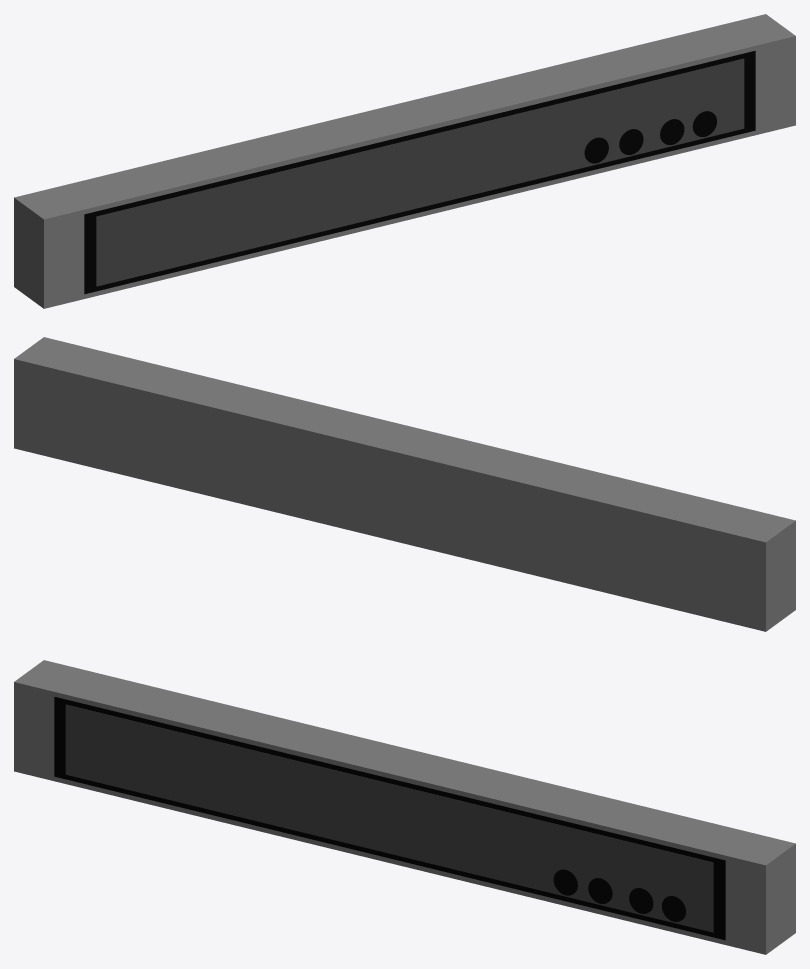
Rendered from Cooker Unit (Oven Door 3).fbx.
The picture shows the model from 3 angles, top to bottom: view 1: azimuth 30°, elevation 25°; view 2: azimuth 150°, elevation 25°; view 3: azimuth 330°, elevation 25°; orthographic projection.
Visible parts, largest first — view 1: Door 1.013, Door 1.011, Door 1.012; view 2: Door 1.011; view 3: Door 1.013, Door 1.011, Door 1.012.
Part boxes in pixels (<box>): Door 1.013: <box>96,58,744,286</box>; Door 1.011: <box>14,14,795,308</box>; Door 1.012: <box>84,50,755,294</box>; Door 1.011: <box>14,337,795,631</box>; Door 1.013: <box>65,704,713,932</box>; Door 1.011: <box>14,660,795,954</box>; Door 1.012: <box>54,696,725,940</box>.
Bounding box in the file's own units: 0.6961 × 0.0791 × 0.0493.
Materials: 7 (7 with a texture image).
